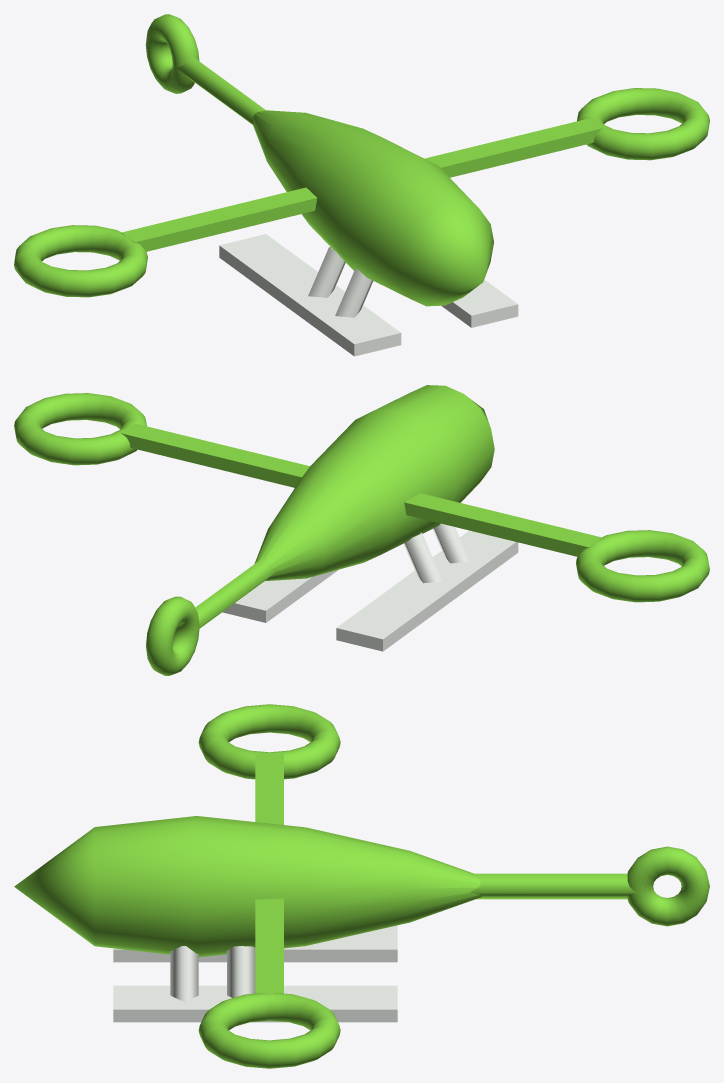
Rendered from helicopter.obj.
The picture shows the model from 3 angles, top to bottom: view 1: azimuth 30°, elevation 25°; view 2: azimuth 150°, elevation 25°; view 3: azimuth 270°, elevation 25°; orthographic projection. The views are drawn at different scales.
Size of the model in its own units: 58 by 12.26 by 49.
